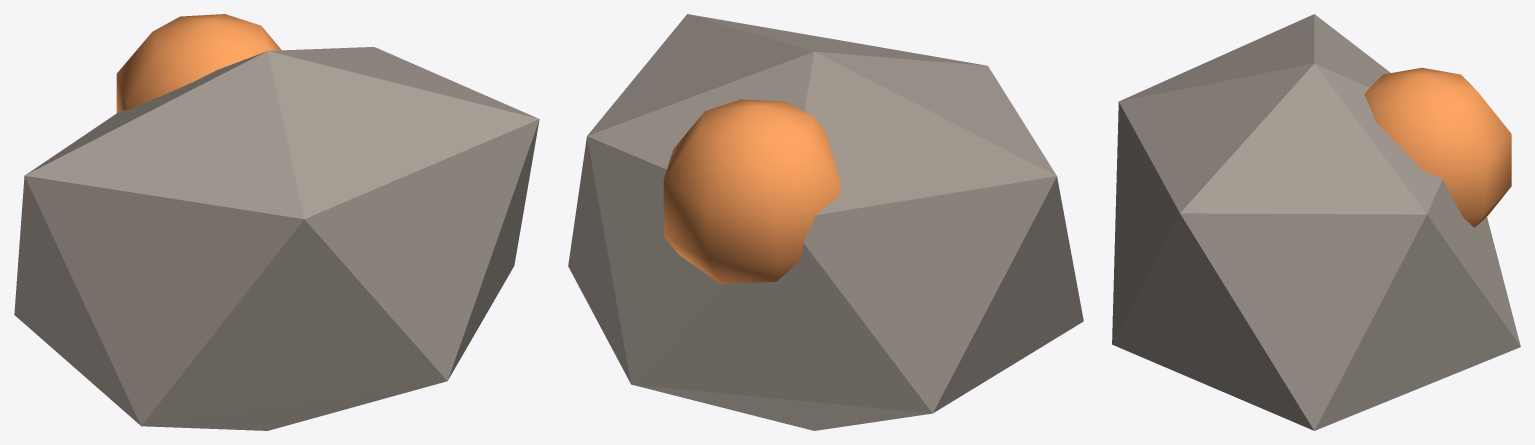
Rendered from CinderGrenade1.fbx.
3 views of the same model, side by side, from view 1: azimuth 30°, elevation 25°; view 2: azimuth 150°, elevation 25°; view 3: azimuth 270°, elevation 25° (orthographic). The views are drawn at different scales.
Visible parts, largest first — view 1: cinder; view 2: cinder; view 3: cinder.
Part boxes in pixels (box(x1,y1,x2,y2)): cinder: box(14, 14, 539, 430); cinder: box(568, 14, 1083, 430); cinder: box(1112, 14, 1520, 430).
Size of the model in its own units: 0.3909 by 0.2898 by 0.3042.
